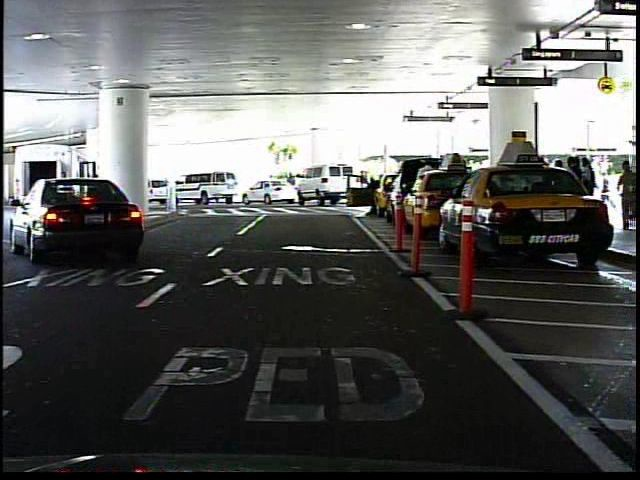person: (613, 160, 639, 230), (360, 171, 384, 222), (599, 165, 618, 204), (287, 169, 299, 200), (267, 173, 277, 180)
